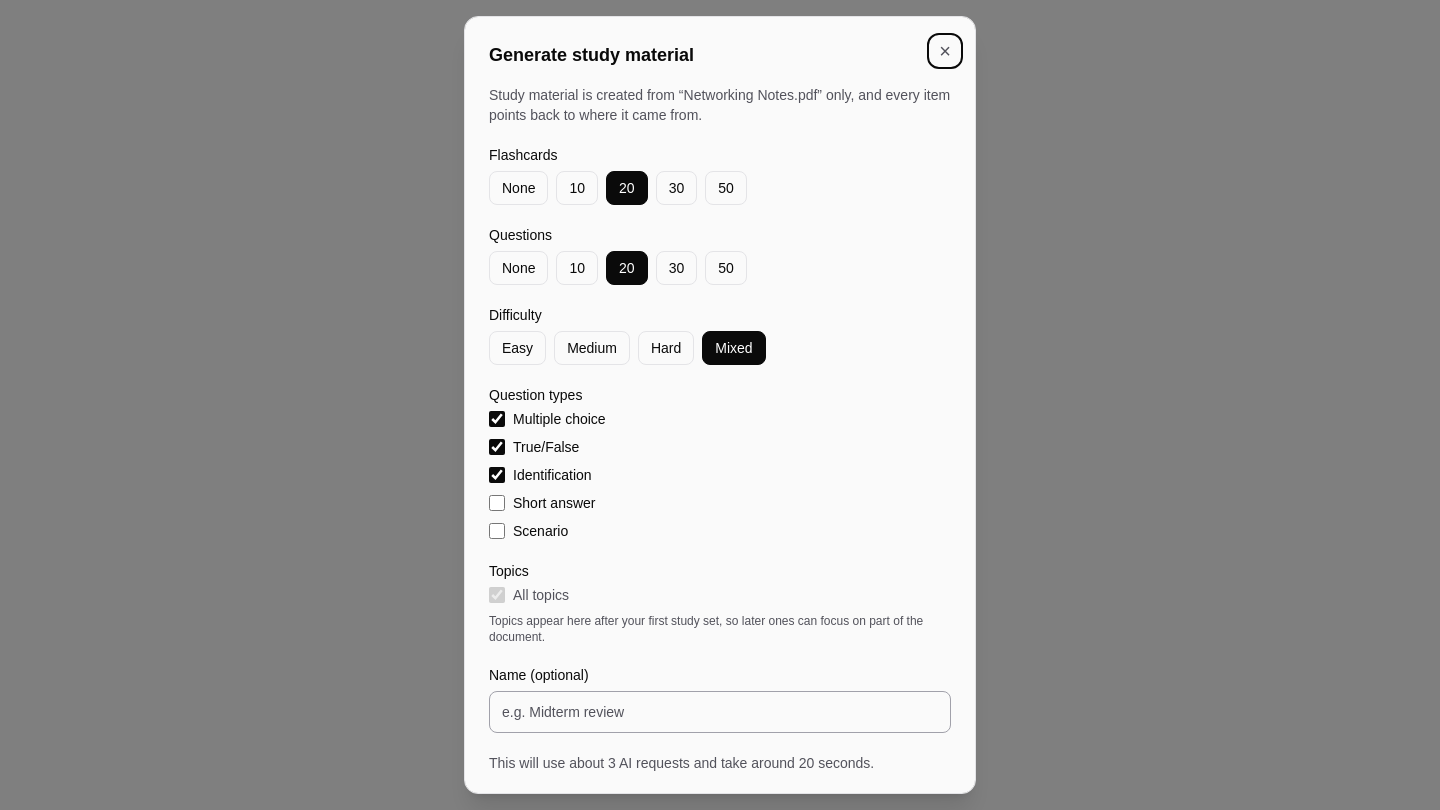
Test: GenerateModal › blocks submit and shows a message instead of an estimate when nothing is selected
Click the button "None" below "Flashcards".
click(519, 188)  # box [489,171,548,205]
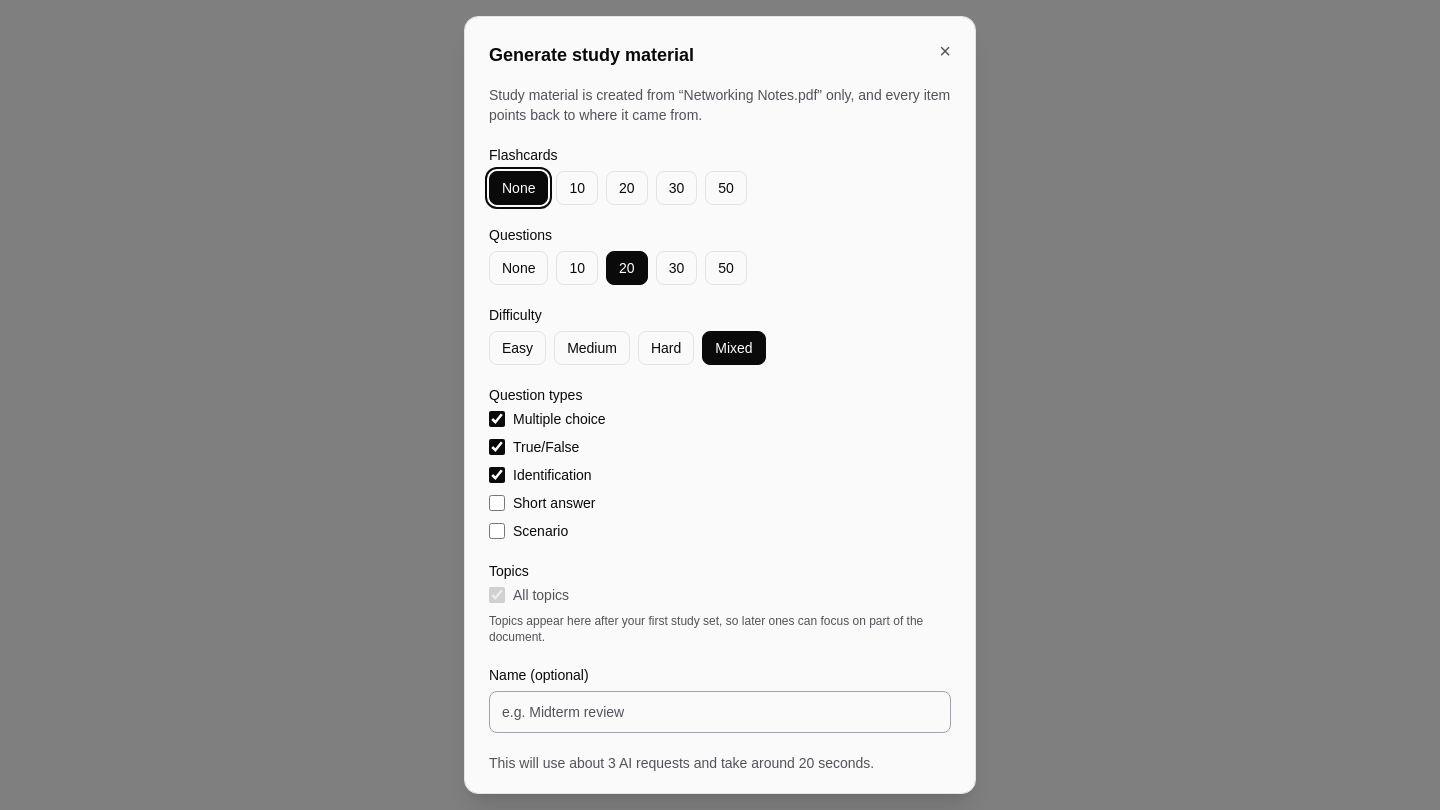
Click the button "None" below "Questions".
click(519, 268)  # box [489,251,548,285]
(page scrolled)
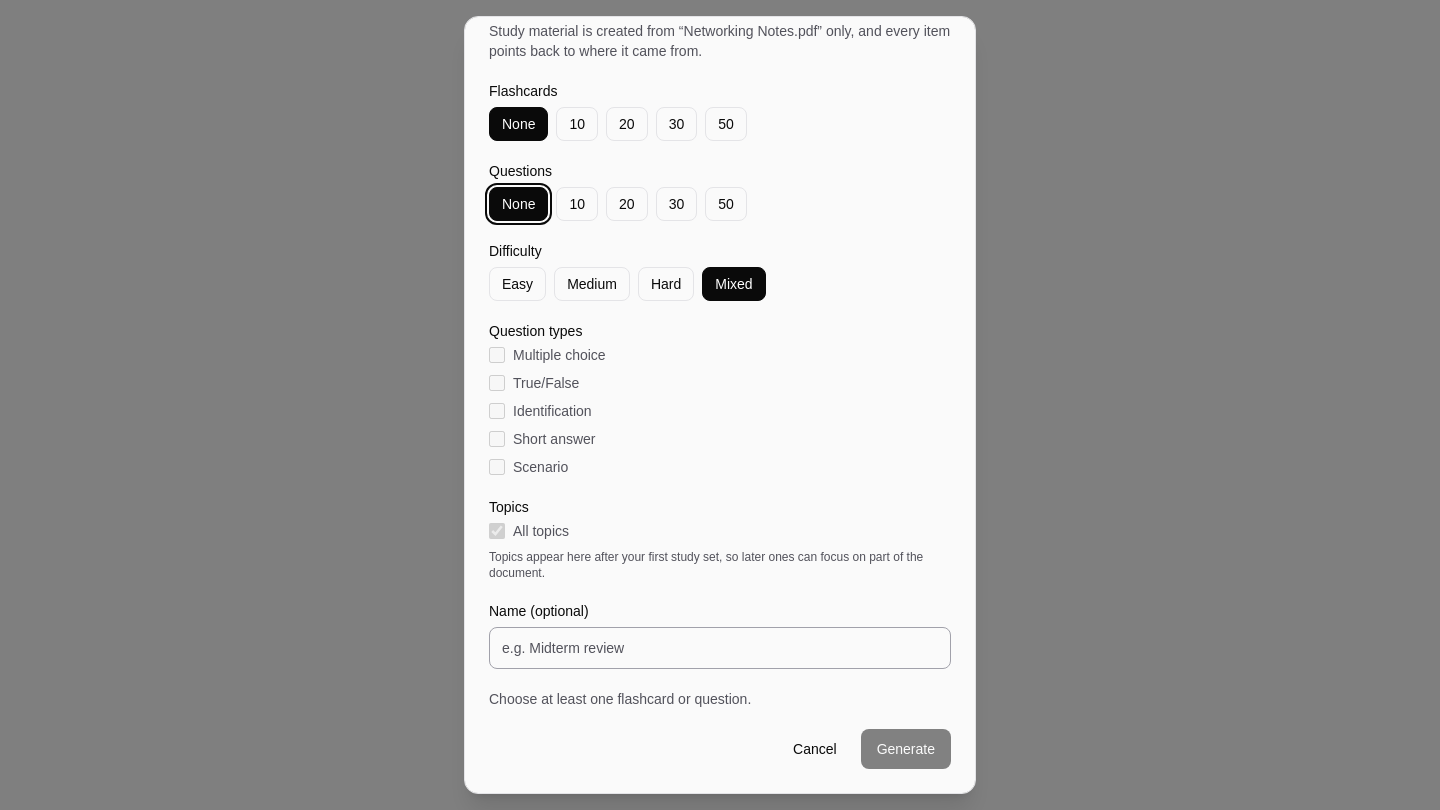
Expected: the button "Generate" is disabled, [861,729,951,769]
Result: the text "Choose at least one flashcard or question." is shown at [489,691,751,707]
